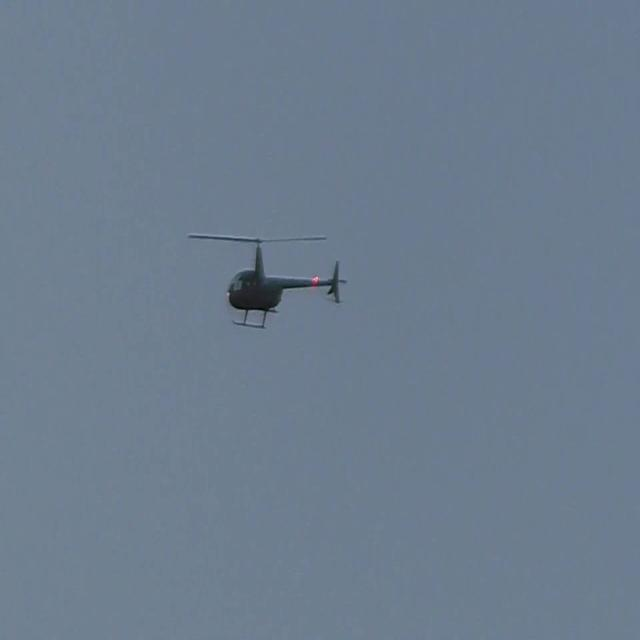CIV_HELO: (227, 238, 348, 330)
